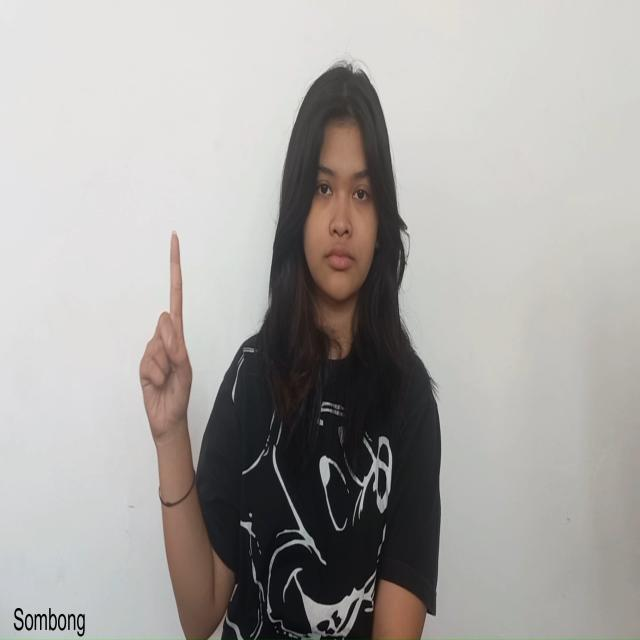Sombong -BISINDO-: (138, 228, 194, 455)
